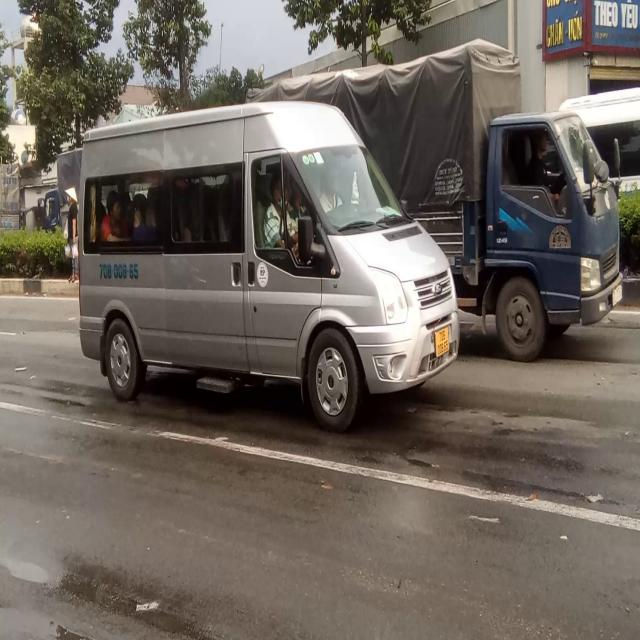bien_vang: (432, 329, 452, 359)
